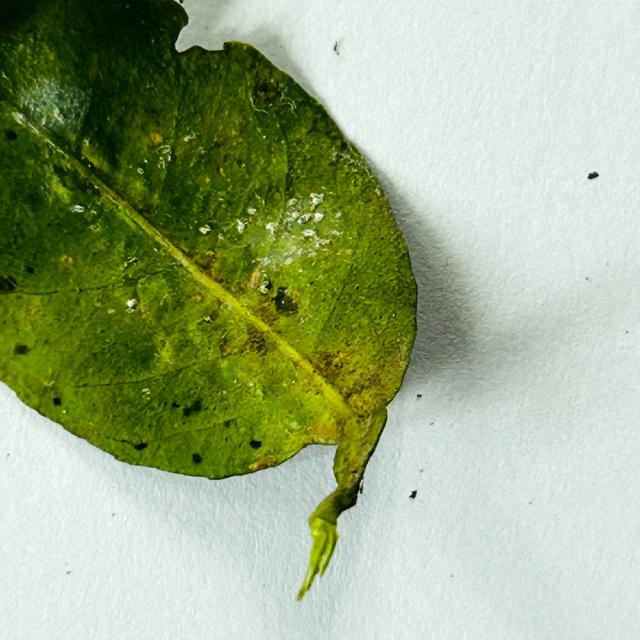Bacterial_Blight: (223, 267, 304, 358), (223, 317, 271, 364), (306, 346, 359, 386), (270, 287, 298, 316), (137, 298, 159, 330), (40, 380, 64, 409), (354, 370, 382, 394), (199, 307, 221, 328), (193, 254, 216, 273), (1, 275, 19, 292), (218, 341, 234, 358), (257, 81, 274, 95), (140, 309, 153, 324), (13, 343, 29, 355), (191, 292, 203, 304)
Lemon: (0, 0, 418, 600)
